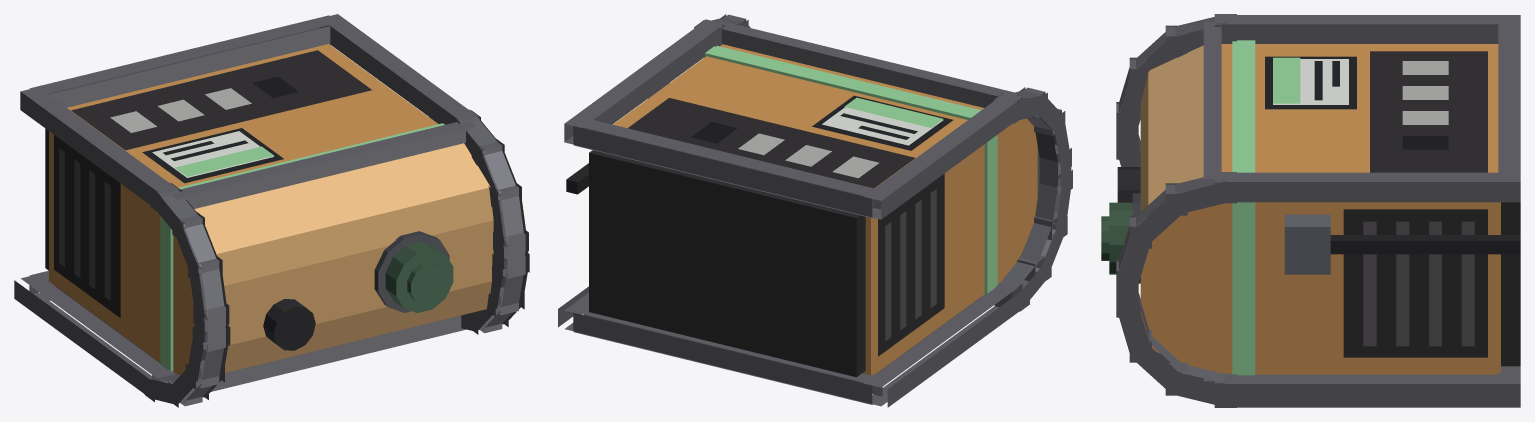
The model's file is backup_ground_premium_off_S.obj.
3 renders of one model, left to right at view 1: azimuth 30°, elevation 25°; view 2: azimuth 150°, elevation 25°; view 3: azimuth 270°, elevation 25°, orthographic. The views are drawn at different scales.
Visible parts, largest first — view 1: backup_ground_premium_off_S; view 2: backup_ground_premium_off_S; view 3: backup_ground_premium_off_S.
Part boxes in pixels (left/top/right/bottom): backup_ground_premium_off_S: left=14, top=14, right=529, bottom=407; backup_ground_premium_off_S: left=558, top=14, right=1072, bottom=407; backup_ground_premium_off_S: left=1101, top=14, right=1520, bottom=407.
Bounding box in the file's own units: 0.631 × 0.377 × 0.64.
1 material, 1 textured.
